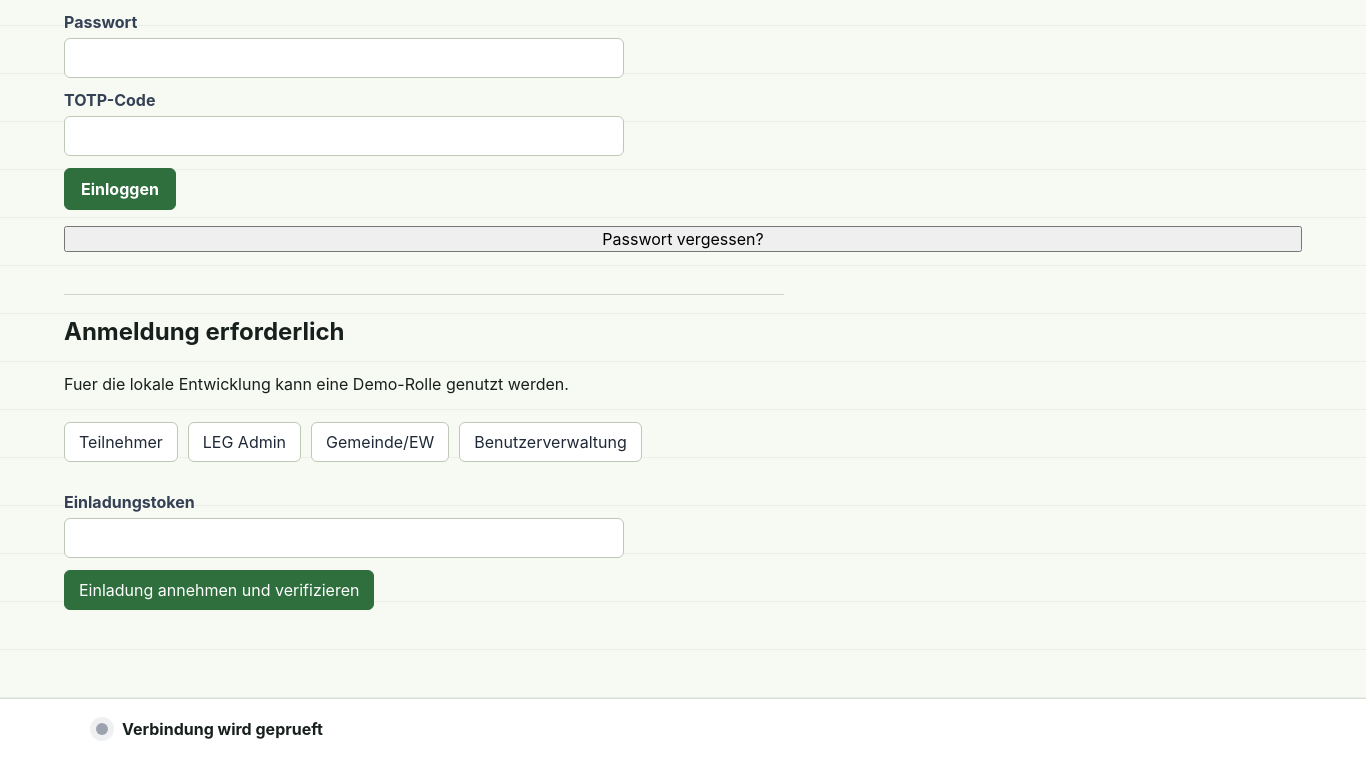
Portal shell › zeigt Teilnehmern die aktuelle Dokumentversion vor Zustimmung
This screenshot has width=1366, height=759.
(page scrolled)
Click the button "Teilnehmer": [121, 442] box [64,422,178,462]
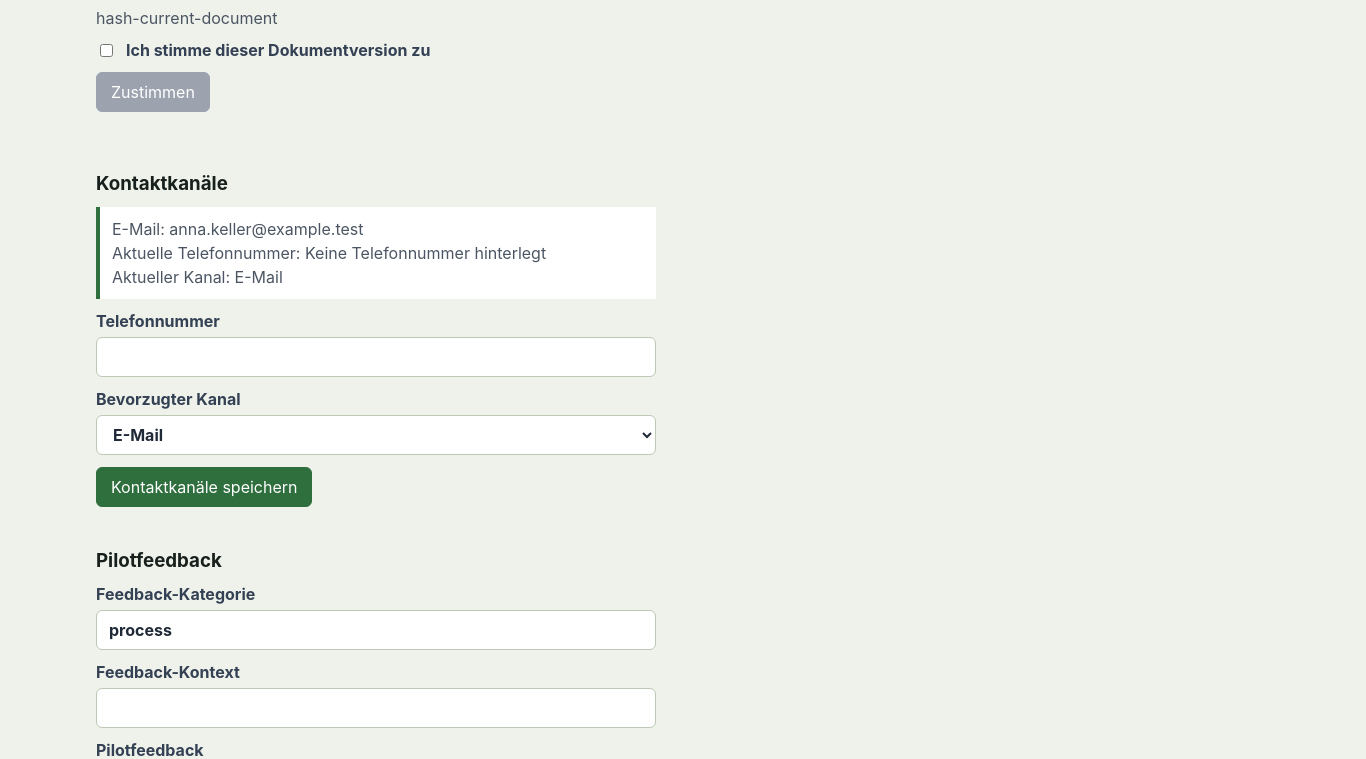
Expected: the checkbox labelled "Ich stimme dieser Dokumentversion zu" is shown, [100,44,113,56]
Now the text "hash-current-document" is shown, box [96,8,277,28]
Now the button "Zustimmen" is shown, box [96,72,210,112]
